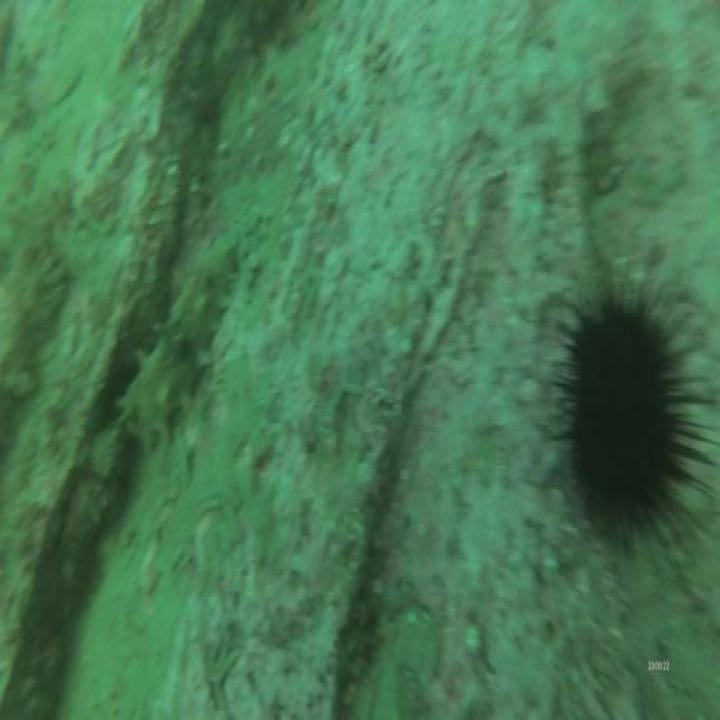echinus: (569, 303, 680, 534)
holothurian: (116, 234, 238, 450)
